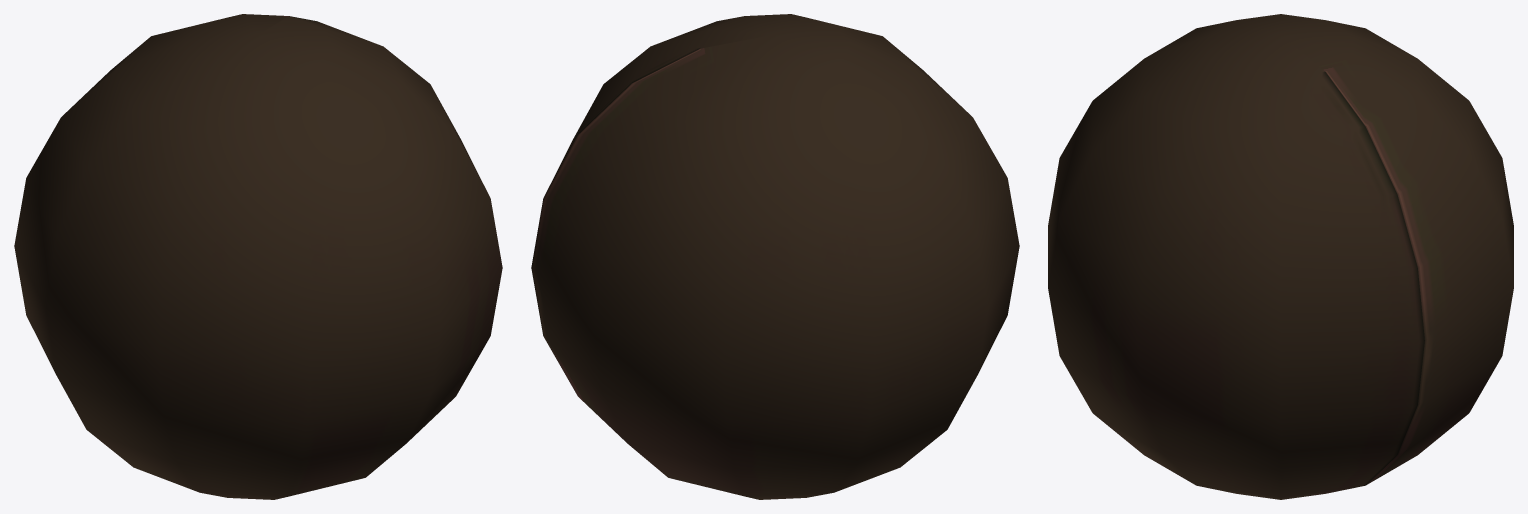
File: astroroomlibrary.dae
3 views of the same model, side by side, from view 1: azimuth 30°, elevation 25°; view 2: azimuth 150°, elevation 25°; view 3: azimuth 270°, elevation 25° (orthographic).
Visible parts, largest first — view 1: n15b2; view 2: n15b2; view 3: n15b2.
Part boxes in pixels (x1,y1,x2,y2): n15b2: (14, 14, 502, 499); n15b2: (531, 14, 1019, 499); n15b2: (1048, 14, 1513, 499).
Bounding box in the file's own units: 6212 × 6212 × 5908.
22 materials, 22 textured.
